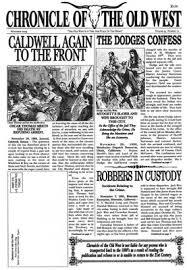Printing industry: (7, 7, 187, 270)
